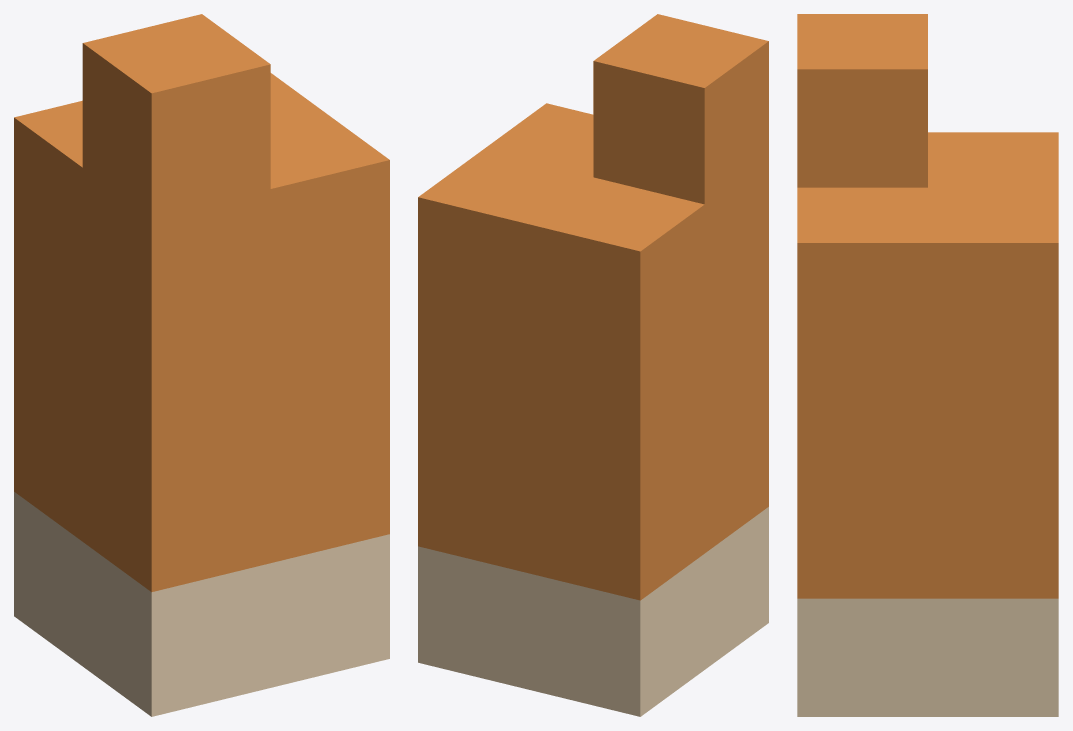
The model's file is cat__leg_fr.obj.
The picture shows the model from 3 angles, left to right: view 1: azimuth 30°, elevation 25°; view 2: azimuth 150°, elevation 25°; view 3: azimuth 270°, elevation 25°; orthographic projection. The views are drawn at different scales.
Parts seen in each view (by area): view 1: cat__leg_fr; view 2: cat__leg_fr; view 3: cat__leg_fr.
Boxes of the visible parts, x1,y1,x2,y2 form: cat__leg_fr: (14,14,389,716); cat__leg_fr: (418,14,768,716); cat__leg_fr: (797,14,1058,716).
Bounding box in the file's own units: 0.2 × 0.5 × 0.2.
Materials: 1 (1 with a texture image).
